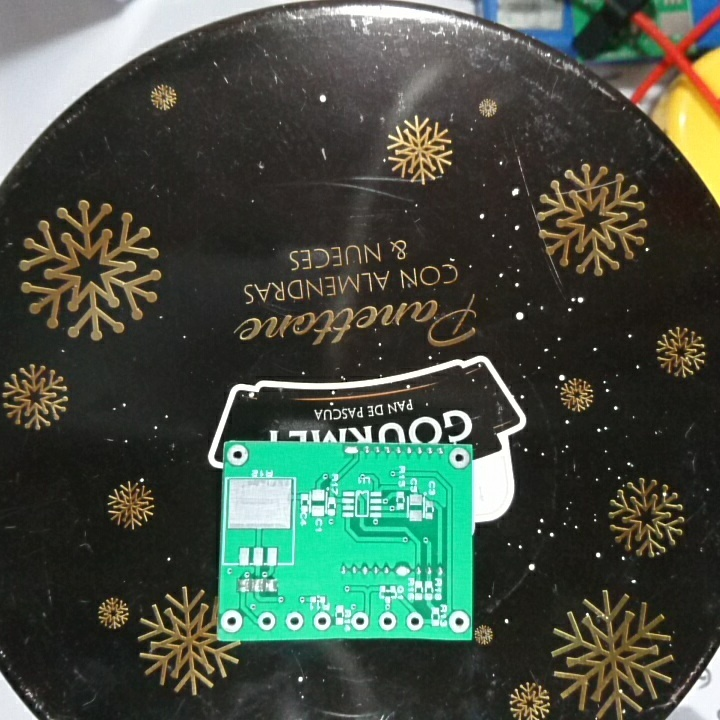F: (224, 441, 250, 468), (218, 609, 244, 634), (447, 609, 472, 633), (256, 609, 279, 635), (448, 448, 472, 472), (282, 609, 306, 632), (376, 609, 399, 633), (349, 609, 372, 632), (310, 610, 334, 632), (404, 610, 425, 633)
P: (393, 560, 413, 580), (340, 443, 361, 458)
